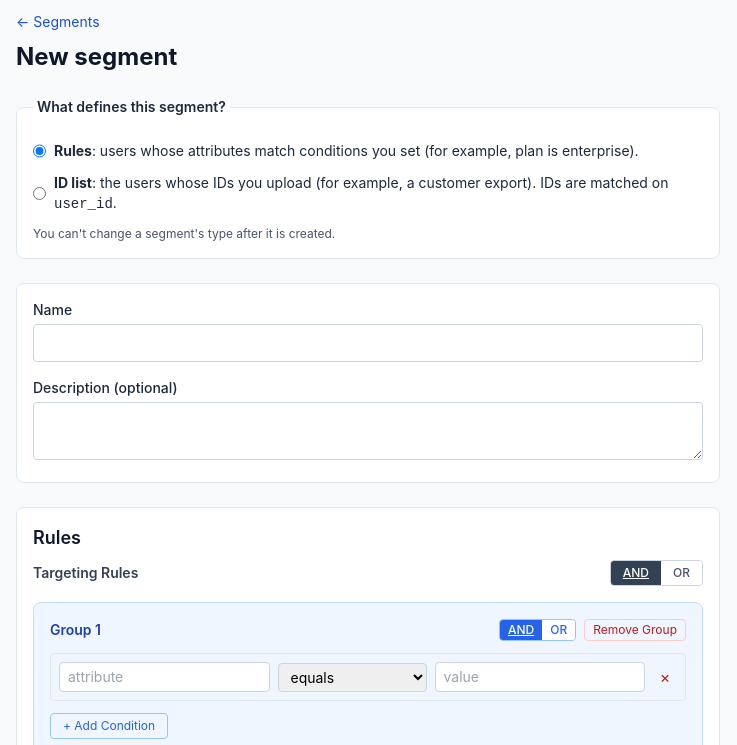
Test: NewSegmentPage › a 500 shows fixed copy, not its body
Click the radio button with test id "segment-kind-id-list" at (40, 194), box [33,173,46,214]
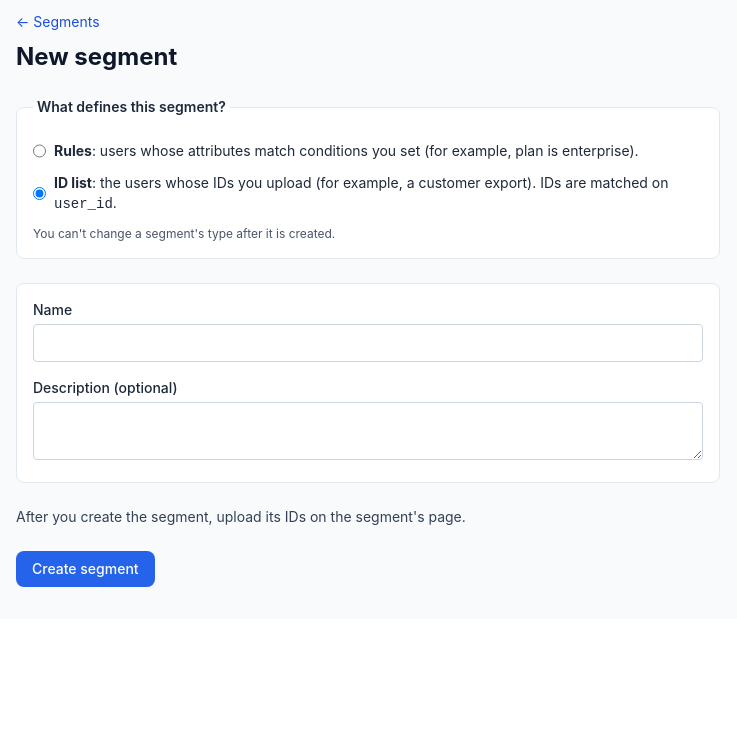
Type "Pilot" into the field labelled "Name" at (368, 343), box [33,324,703,362]
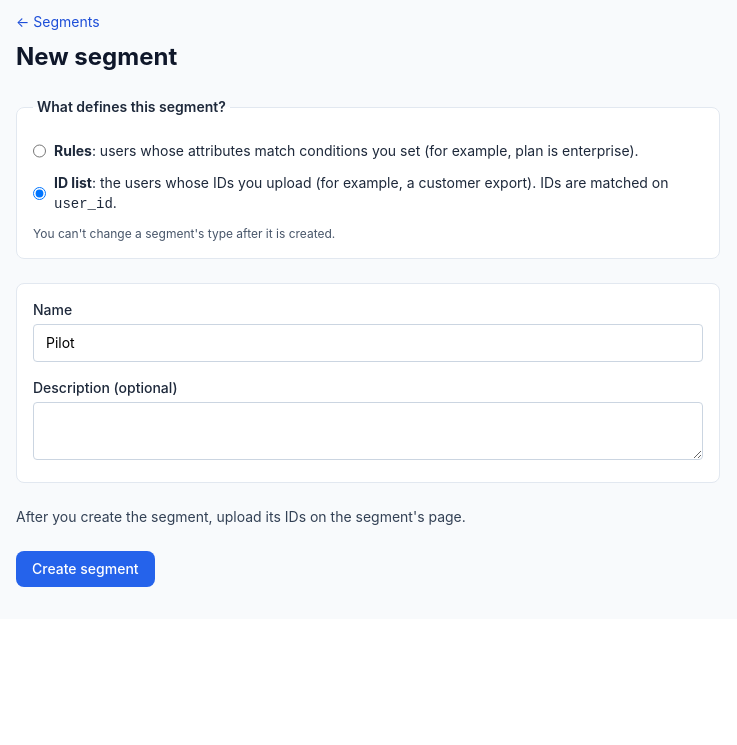
Click the button with test id "segment-create" at (85, 569), box [16,551,155,587]
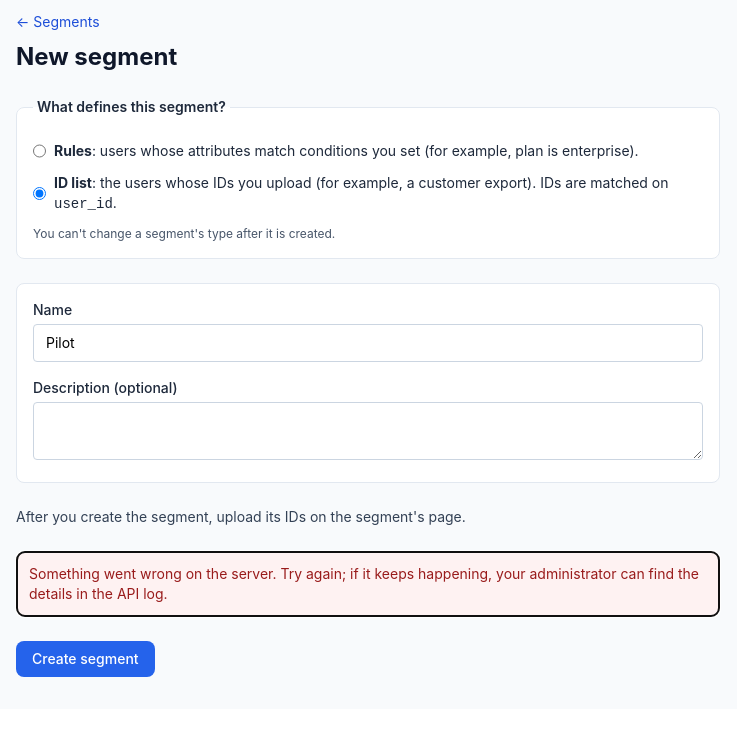
Expected: the message with test id "segment-new-error" shows "Something went wrong on the server.", [29,565,699,602]
